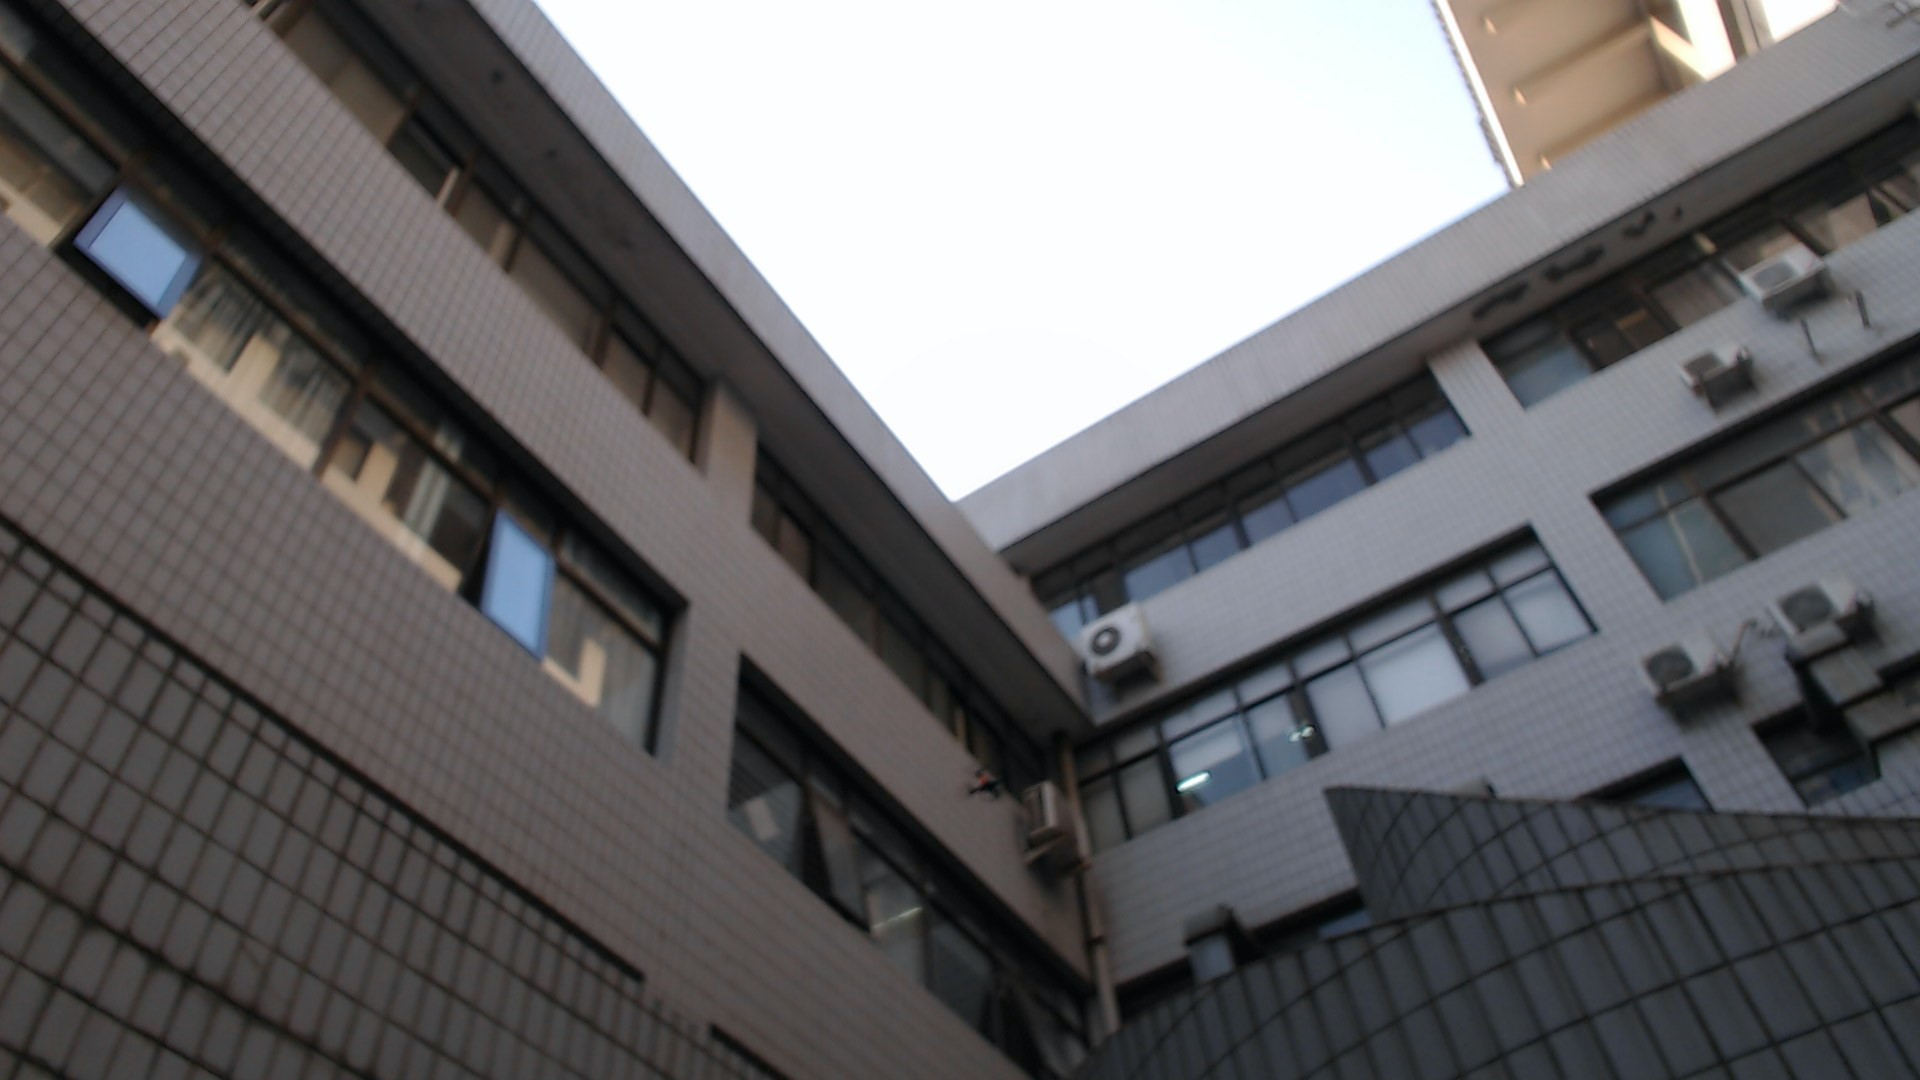drone: (955, 752, 1019, 816)
